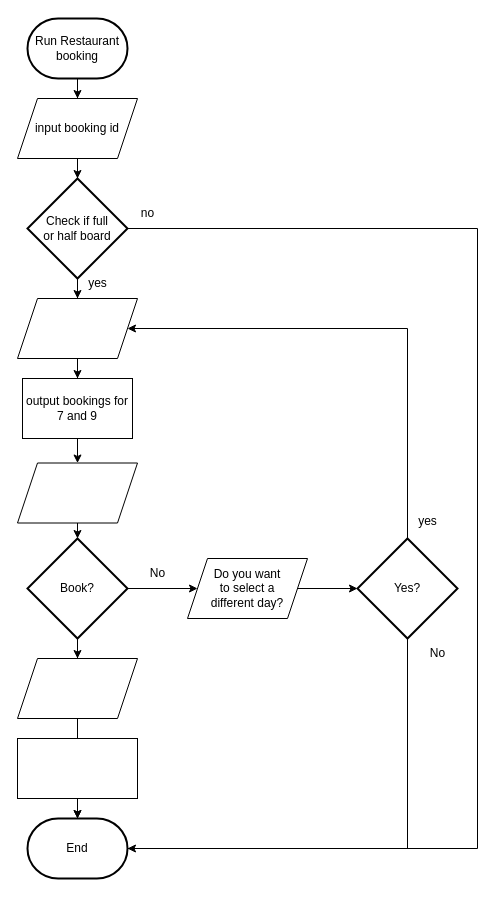
The diagram is 503 pixels wide and 897 high, and some of its shapes have lost their labels. Here are the shapes that lost their labels. From the top down, the centre of each, then its label:
the point at 77,328: Input day
the point at 77,492: Input book or quit
the point at 77,688: choose table and time
the point at 77,768: Write in table
